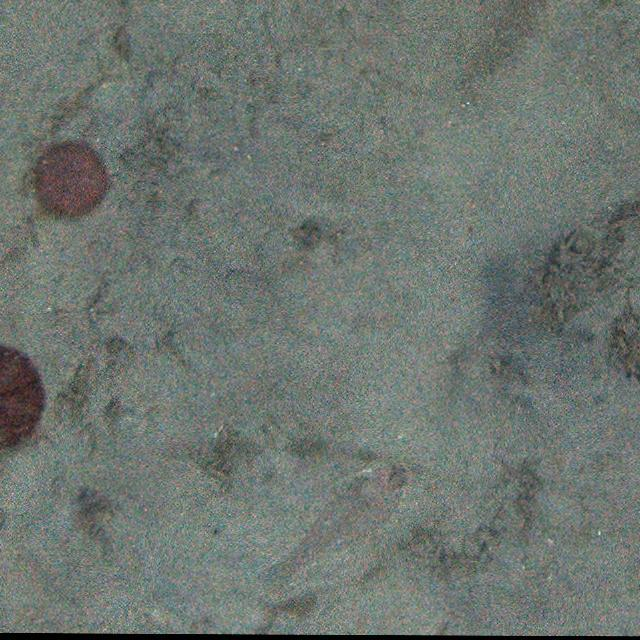flatfish: (261, 459, 416, 598)
